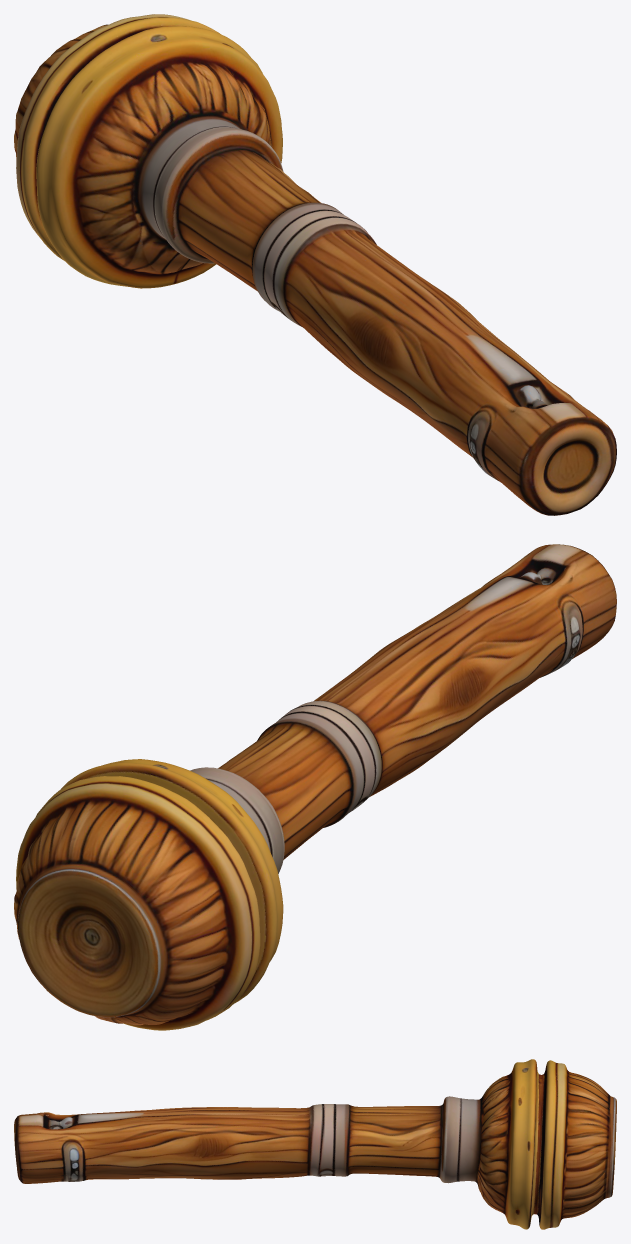
File: Handle.fbx
3 renders of one model, top to bottom at view 1: azimuth 30°, elevation 25°; view 2: azimuth 150°, elevation 25°; view 3: azimuth 270°, elevation 25°, orthographic. The views are drawn at different scales.
Parts seen in each view (by area): view 1: Mesh; view 2: Mesh; view 3: Mesh.
Boxes of the visible parts, box(x1,y1,x2,y2) form: Mesh: box(14, 14, 616, 515); Mesh: box(14, 544, 616, 1030); Mesh: box(14, 1059, 616, 1229).
Bounding box in the file's own units: 18.95 × 18.91 × 67.21.
1 material, 1 textured.
